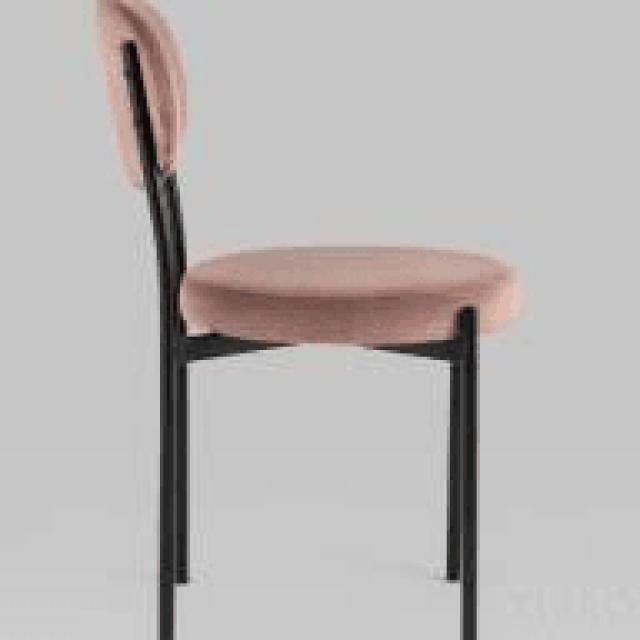chair: (93, 0, 524, 640), (102, 9, 518, 324)
